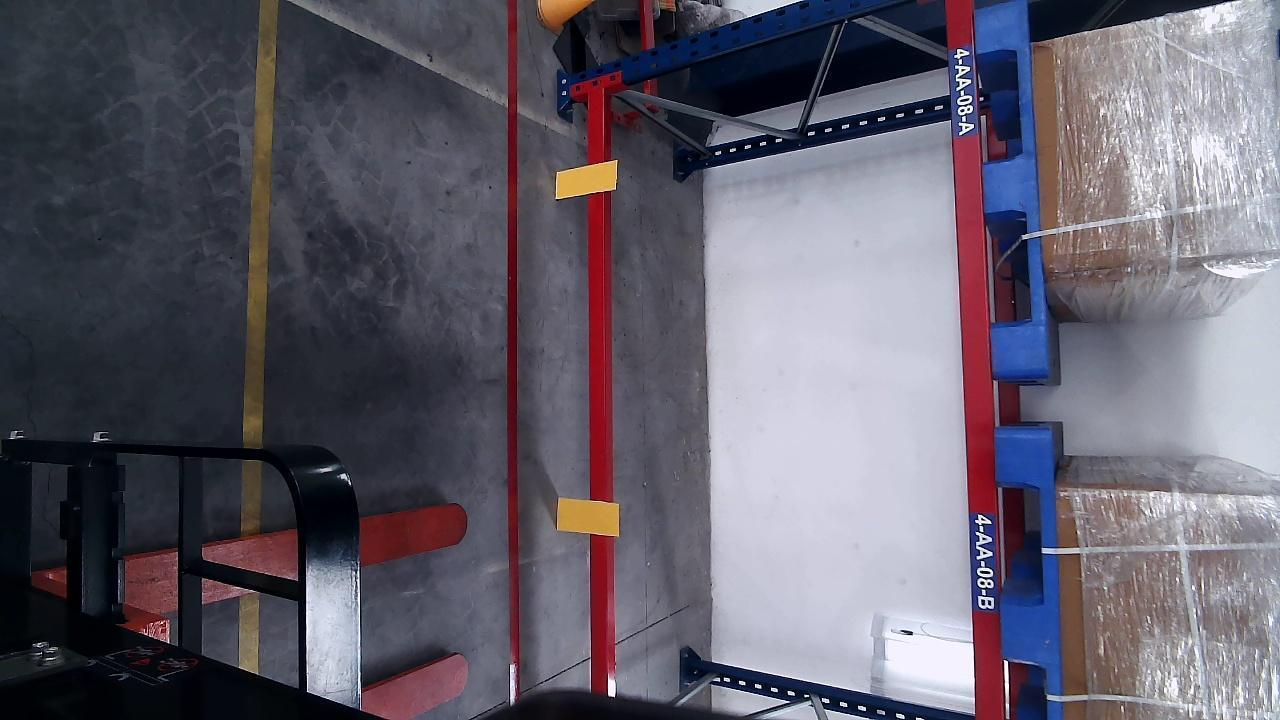red_line: (505, 1, 524, 708)
yellow_line: (238, 1, 282, 448)
